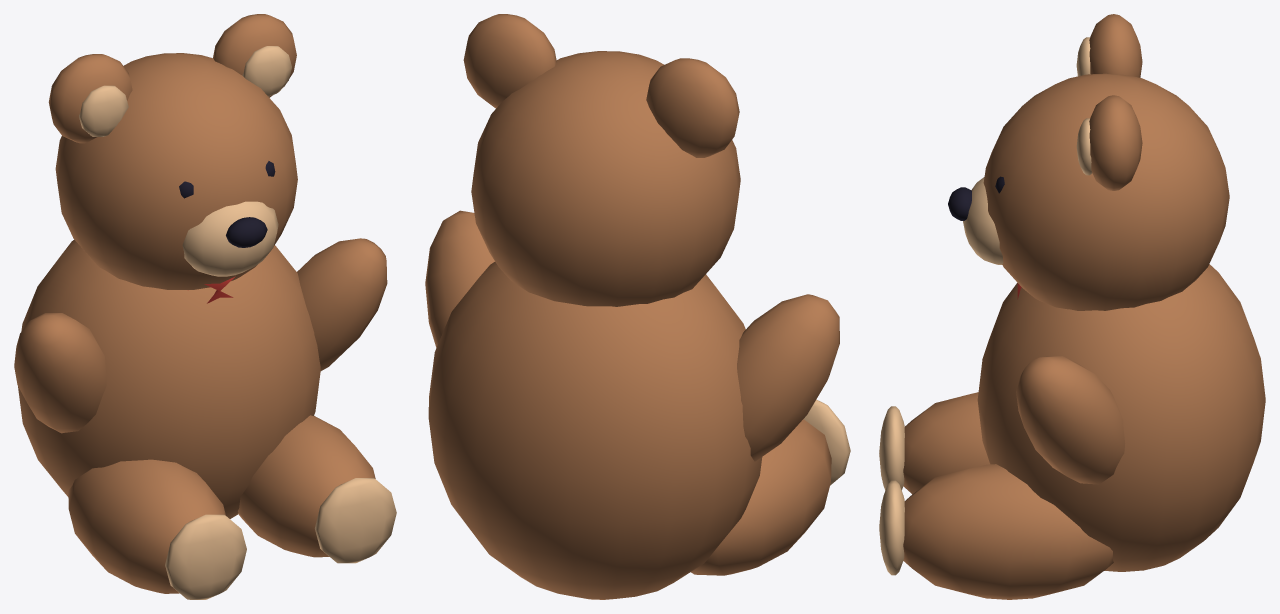
Rendered from toy_teddy.glb.
The picture shows the model from 3 angles, left to right: view 1: azimuth 30°, elevation 25°; view 2: azimuth 150°, elevation 25°; view 3: azimuth 270°, elevation 25°; orthographic projection. The views are drawn at different scales.
Parts seen in each view (by area): view 1: toy_teddy; view 2: toy_teddy; view 3: toy_teddy.
Part boxes in pixels (x1,y1,x2,y2): toy_teddy: (14,14,396,599); toy_teddy: (425,14,850,599); toy_teddy: (879,14,1265,599).
Size of the model in its own units: 5.29 by 6.9 by 4.83.
